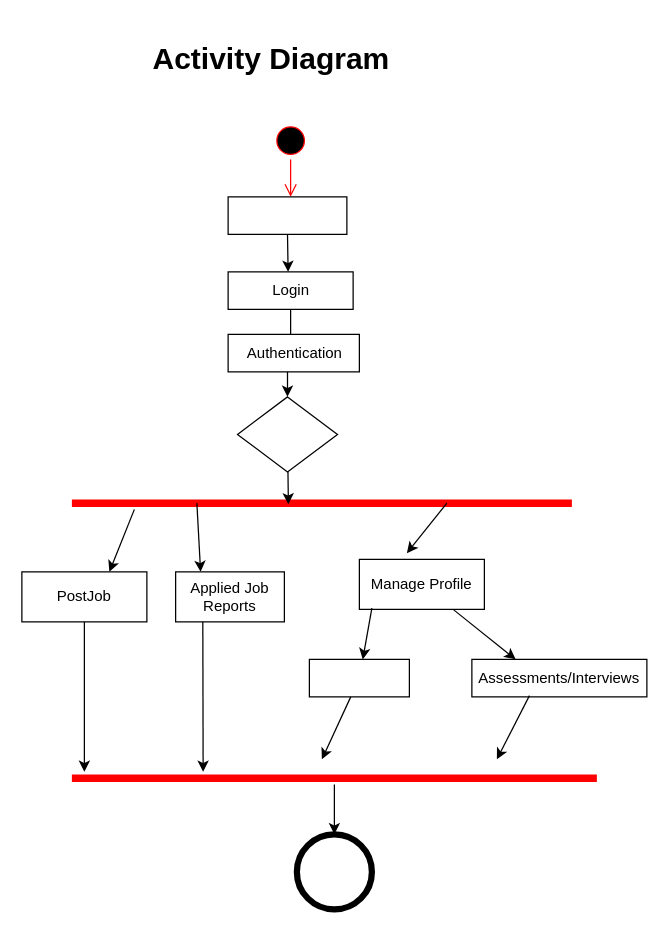
Some shapes in this 669 by 934 pixel diagram are drawn without their labels. Here are the shapes that lost their labels. From the top down, the centre of each, then its label:
At [287,215]: "Registration".
At [287,434]: "Check".
At [358,677]: "Update Profile".
